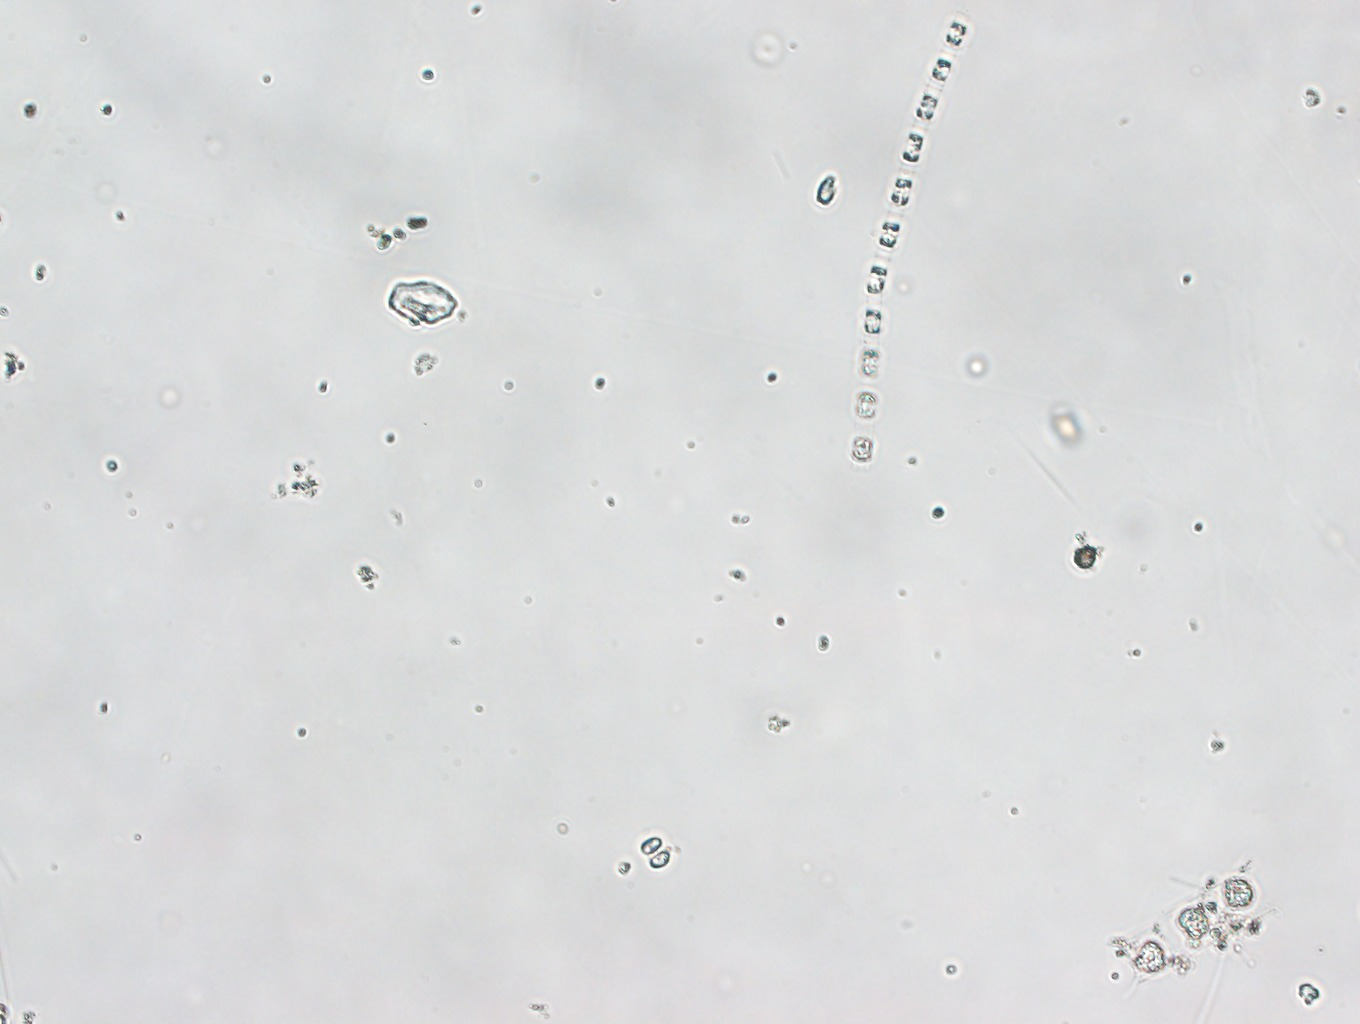skeletonema: (810, 16, 980, 474)
